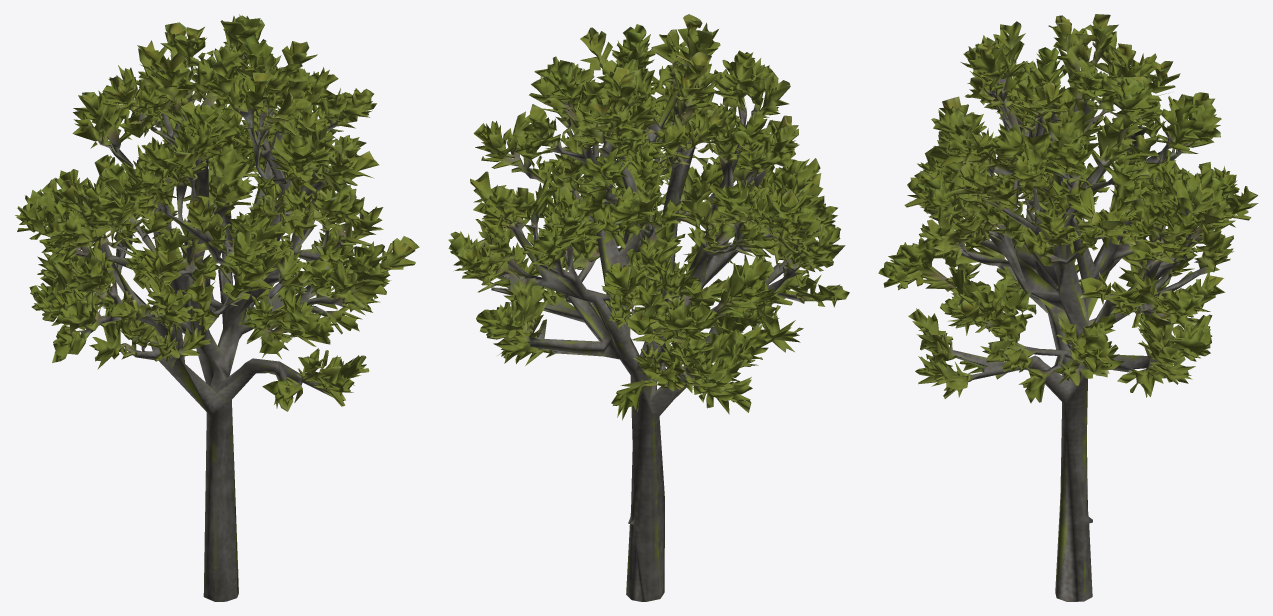
Rendered from tree_12_low.glb.
The picture shows the model from 3 angles, left to right: view 1: azimuth 30°, elevation 25°; view 2: azimuth 150°, elevation 25°; view 3: azimuth 270°, elevation 25°; orthographic projection.
Visible parts, largest first — view 1: world; view 2: world; view 3: world.
Part boxes in pixels (<box>): world: <box>15,14,419,601</box>; world: <box>448,14,849,601</box>; world: <box>878,14,1258,601</box>.
Bounding box in the file's own units: 0.6542 × 1 × 0.6202.
1 material, 1 textured.
